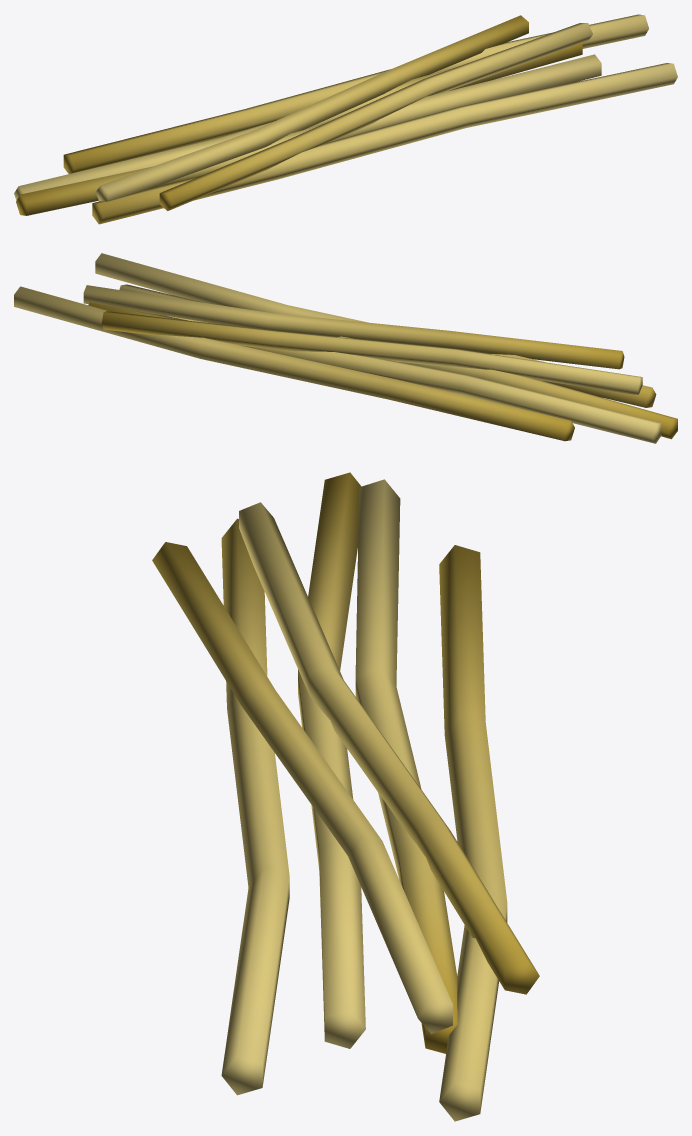
File: SM_Bamboo_02.fbx
3 views of the same model, one above another, from view 1: azimuth 30°, elevation 25°; view 2: azimuth 150°, elevation 25°; view 3: azimuth 270°, elevation 25° (orthographic). The views are drawn at different scales.
Visible parts, largest first — view 1: SM_Bamboo_02; view 2: SM_Bamboo_02; view 3: SM_Bamboo_02.
Part boxes in pixels (x1,y1,x2,y2): SM_Bamboo_02: (14, 14, 677, 224); SM_Bamboo_02: (14, 253, 677, 443); SM_Bamboo_02: (152, 472, 539, 1121).
Bounding box in the file's own units: 6.36 × 0.3043 × 1.71.
